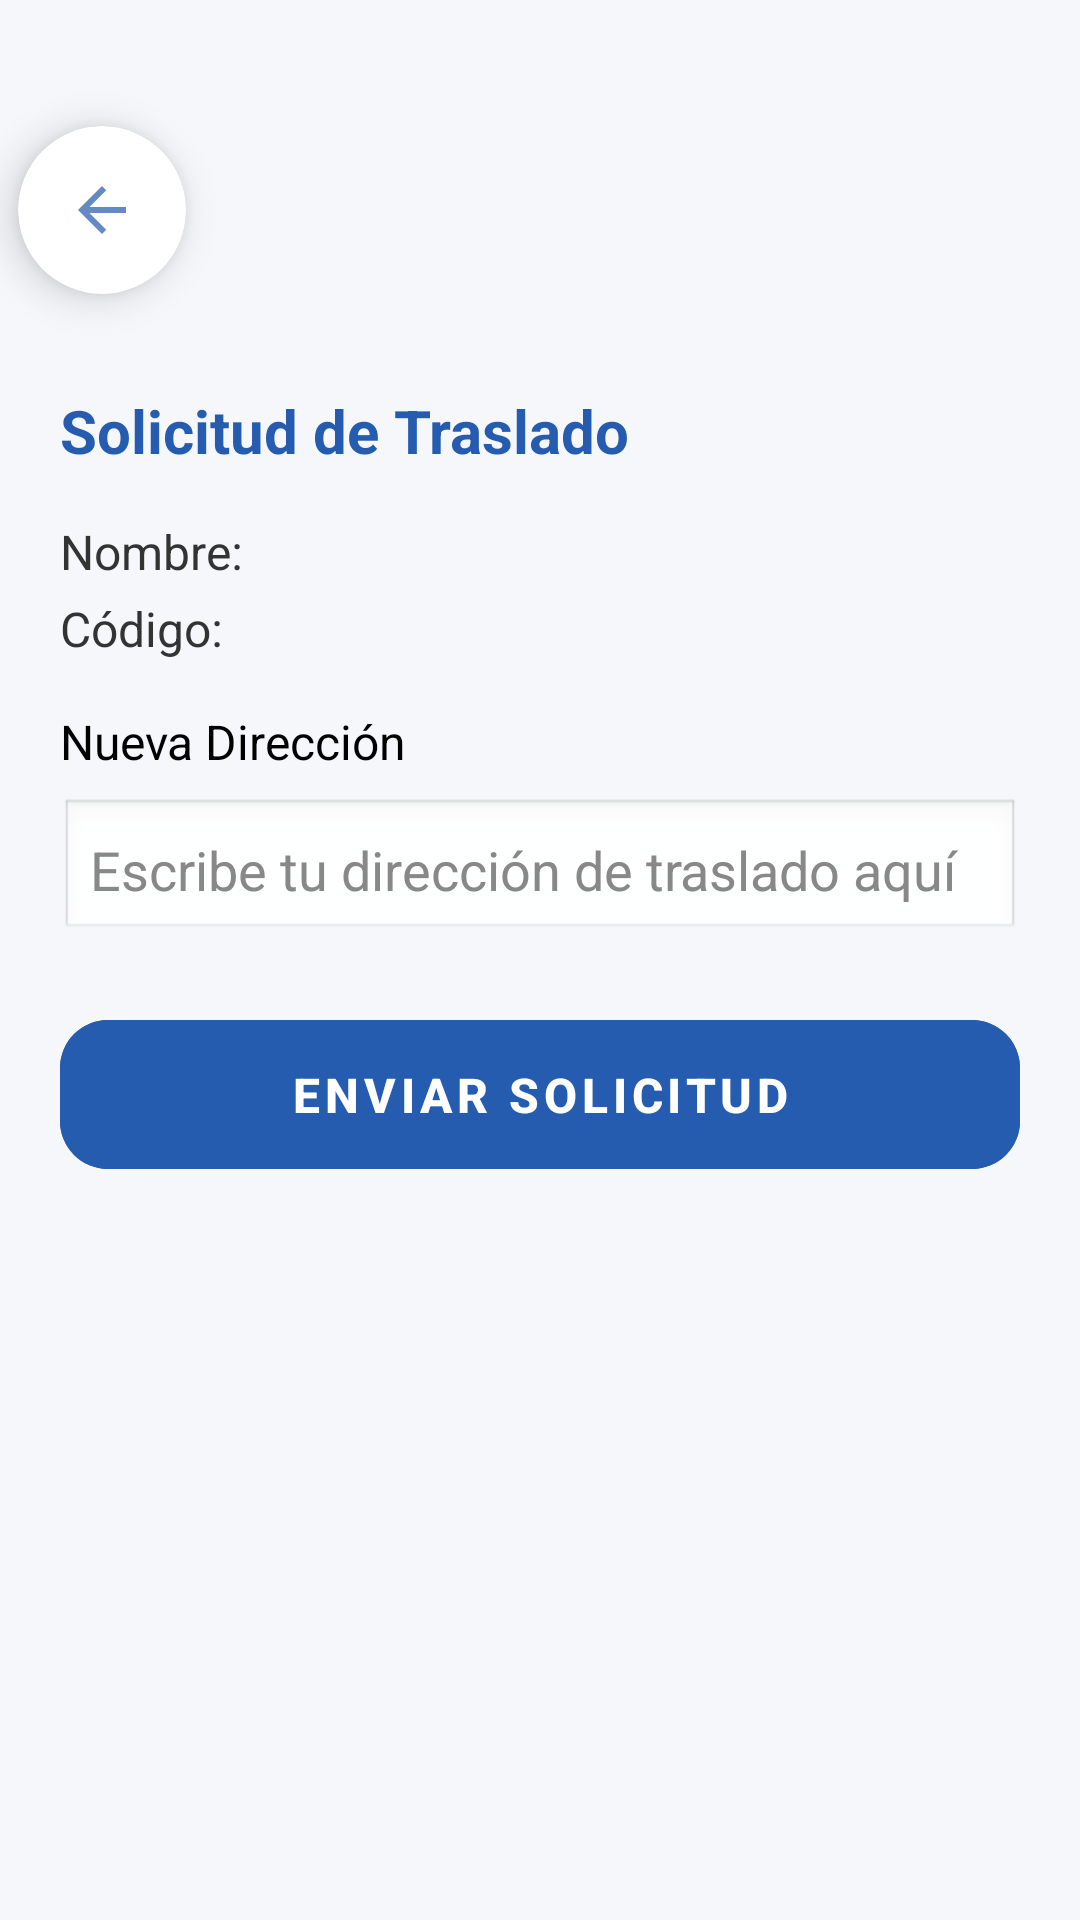

Icons on this 1080px×1920px Android screen, each with the point to tap as [x,y]:
Atrás: [102,210]
